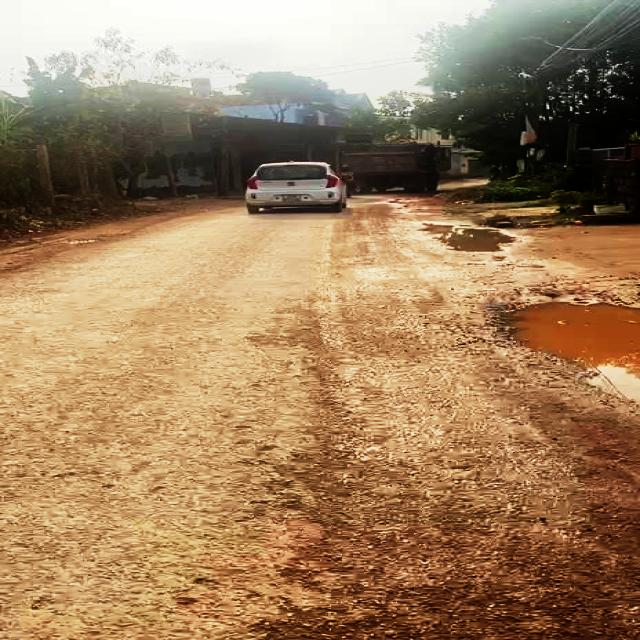pothole: (491, 296, 640, 398), (417, 222, 520, 260)
